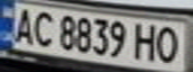3: (90, 16, 112, 56)
8: (54, 11, 78, 52), (72, 15, 93, 53)
9: (109, 18, 130, 58)
A: (6, 4, 39, 45)
C: (27, 8, 57, 47)
H: (130, 20, 163, 62)
O: (151, 24, 184, 64)
